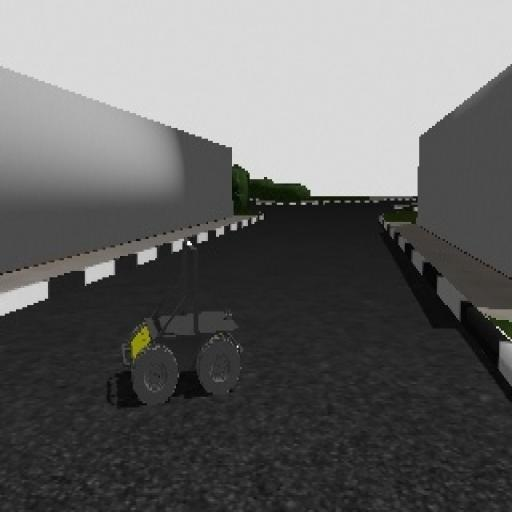huskya200: (116, 240, 243, 428)
